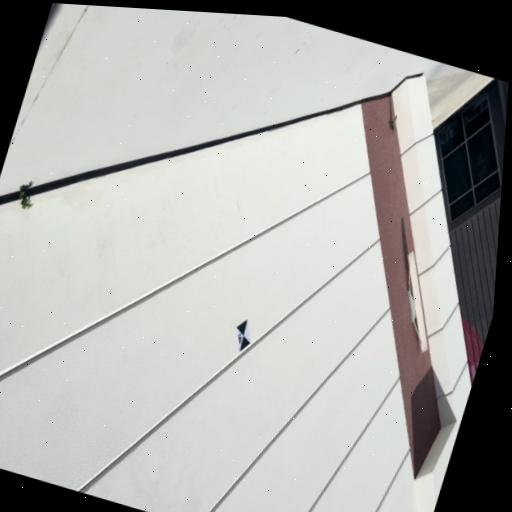target4: (236, 319, 251, 353)
